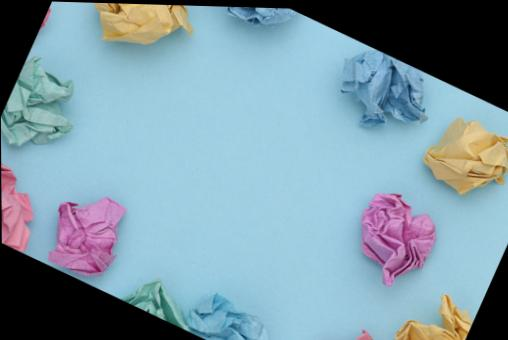paper: (127, 281, 267, 339), (361, 194, 435, 286), (342, 50, 426, 124), (2, 57, 72, 145), (424, 119, 507, 193), (48, 197, 125, 274), (96, 3, 191, 44), (184, 293, 268, 339), (394, 294, 471, 339), (127, 281, 190, 331), (1, 166, 32, 251), (228, 7, 294, 25), (350, 327, 393, 339)
